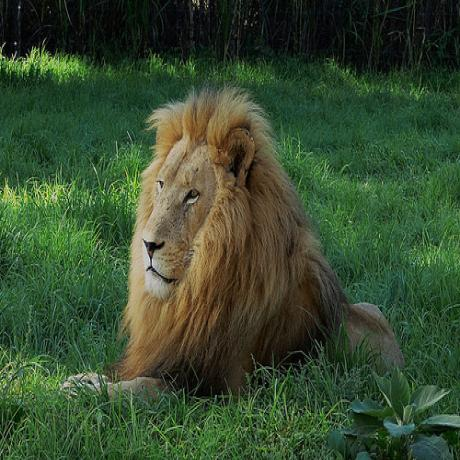Lion: (128, 81, 404, 409)
